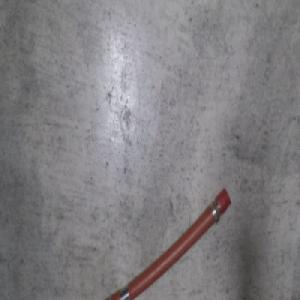Hose: (95, 185, 231, 300)
